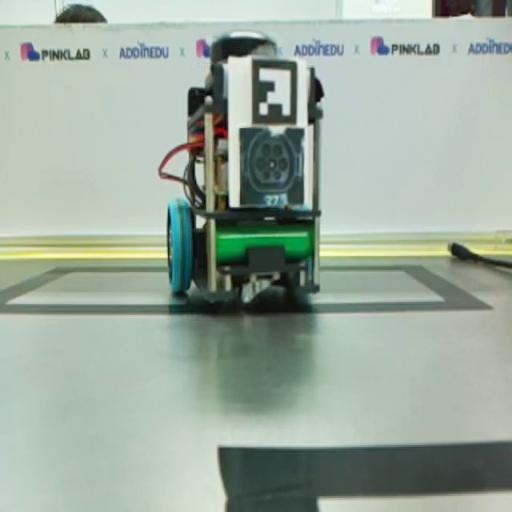pinky_63: (158, 31, 322, 302)
